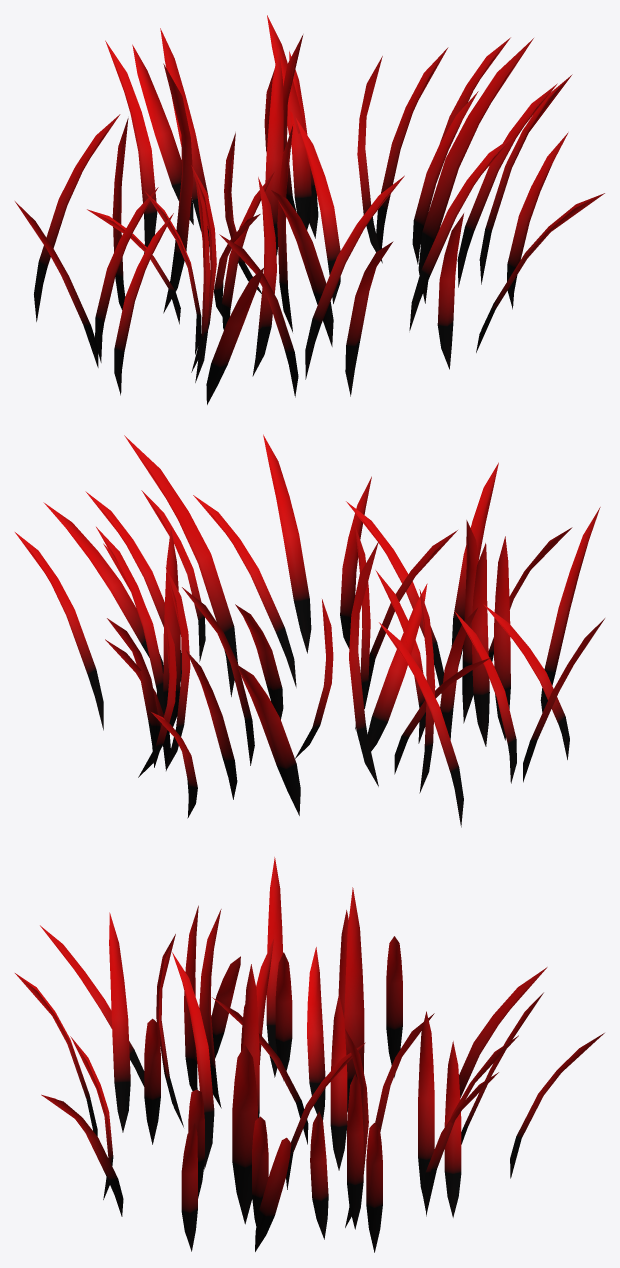
The model's file is SM_Grass_Sub_01.fbx.
The picture shows the model from 3 angles, top to bottom: view 1: azimuth 30°, elevation 25°; view 2: azimuth 150°, elevation 25°; view 3: azimuth 270°, elevation 25°; orthographic projection. The views are drawn at different scales.
Visible parts, largest first — view 1: Plane014; view 2: Plane014; view 3: Plane014.
Boxes of the visible parts, x1,y1,x2,y2 form: Plane014: [15, 15, 604, 404]; Plane014: [15, 434, 604, 827]; Plane014: [15, 857, 604, 1252].
Bounding box in the file's own units: 1.92 × 0.8153 × 1.81.
